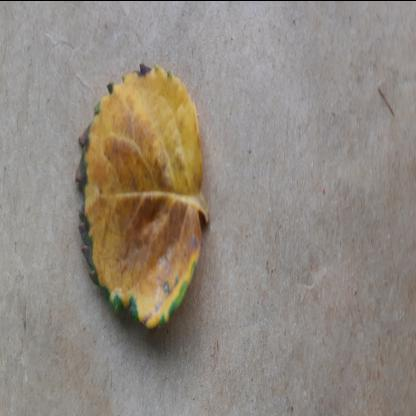black-spot: (76, 54, 208, 336)
